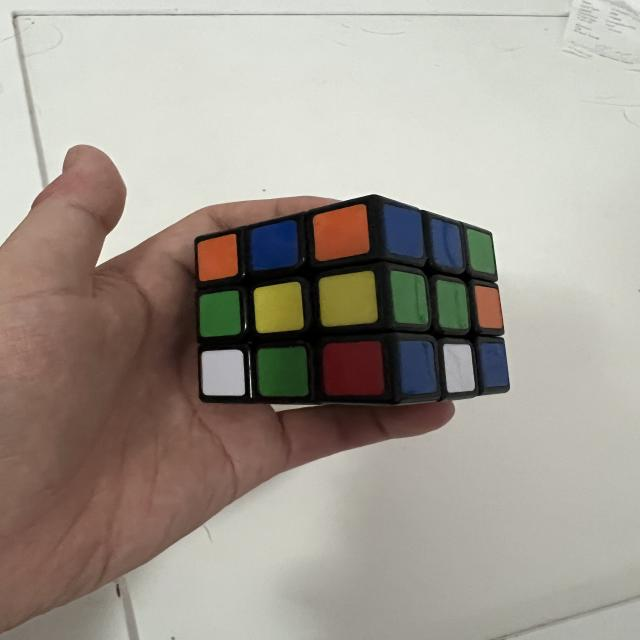blue: (249, 220, 299, 270), (396, 338, 438, 396), (383, 203, 424, 259), (430, 216, 464, 270), (479, 341, 510, 388)
center: (251, 281, 305, 334), (436, 278, 469, 331)
green: (256, 346, 310, 398), (389, 268, 429, 328), (198, 290, 241, 338), (465, 226, 497, 278)
orange: (308, 204, 374, 262), (194, 233, 242, 282), (473, 282, 504, 331)
red: (322, 341, 385, 396)
white: (200, 349, 245, 398), (442, 341, 476, 393)
yellow: (316, 270, 379, 328)
